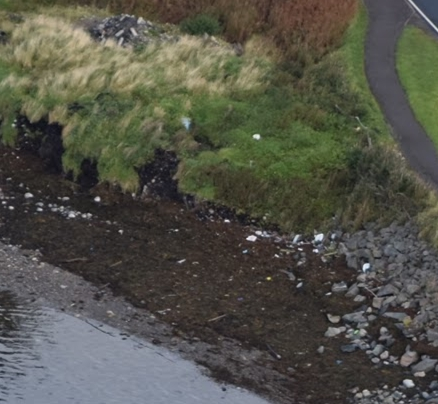together_barrel: (235, 217, 371, 275)
white_in_green: (163, 100, 215, 147), (232, 111, 285, 157)
